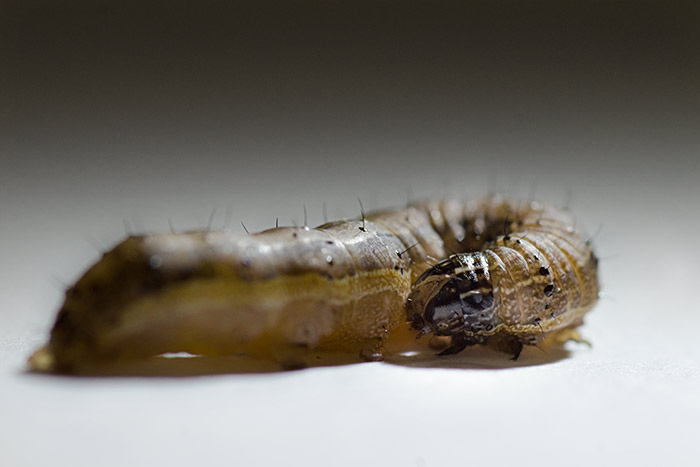Armyworm: (31, 173, 631, 391)
